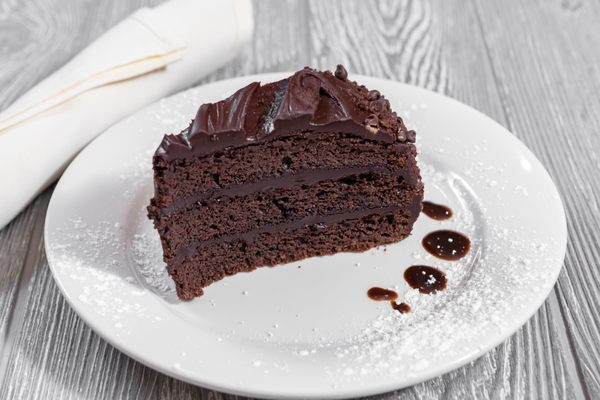curry: (16, 1, 598, 394)
sushi: (148, 64, 425, 298)
